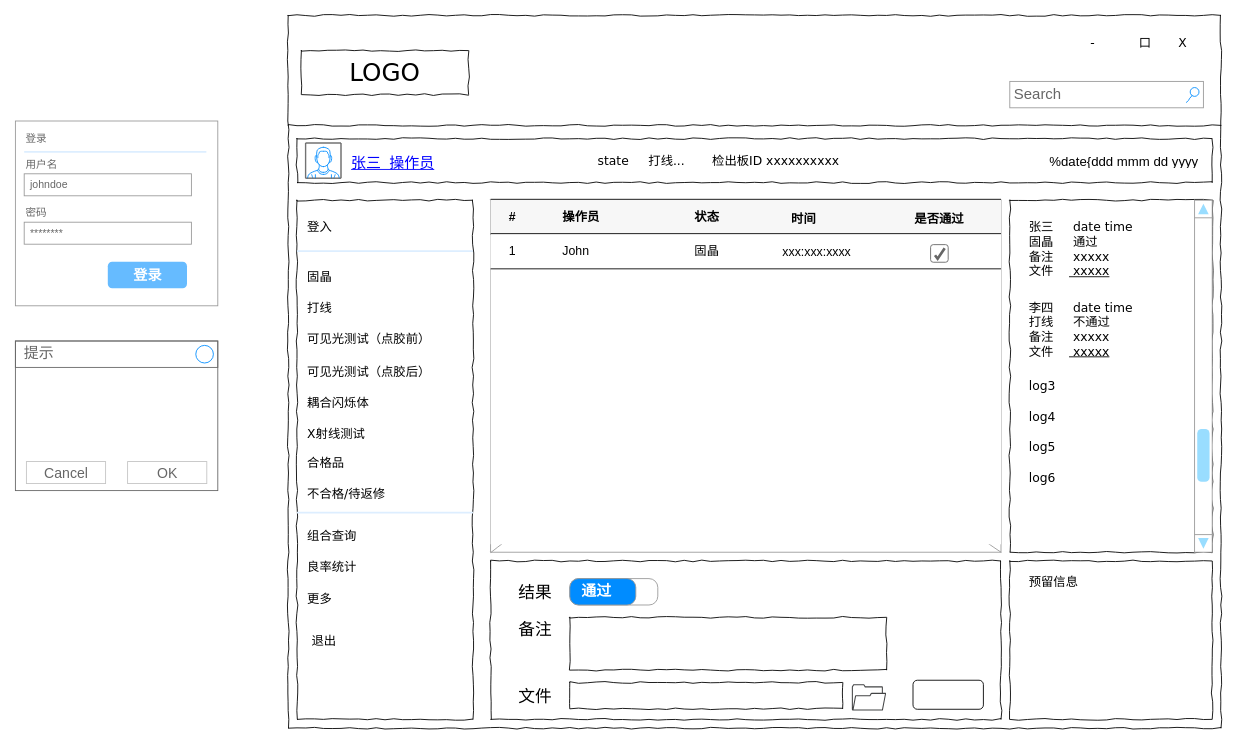
The diagram is 1245 pixels wide and 744 high, and some of its shapes have lost their labels. Each missing label, with the box of its shape:
提交: (912, 679, 983, 709)
确认要退出软件吗？: (15, 340, 218, 491)
